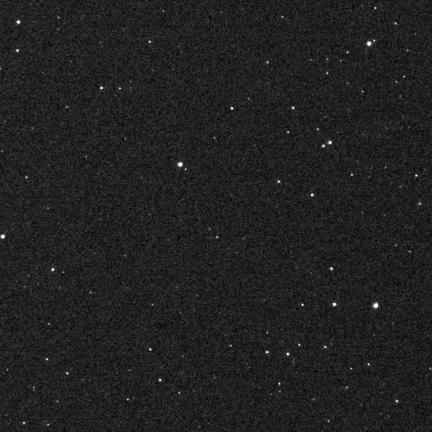blob: (0, 235, 5, 239), (178, 162, 182, 167)
